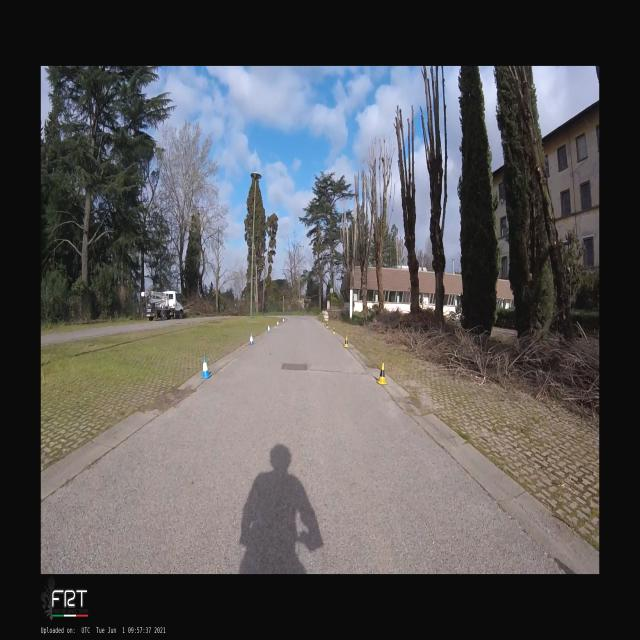blue_cone: (200, 356, 212, 378), (248, 332, 254, 344), (268, 324, 270, 332)
yellow_cone: (376, 363, 388, 385), (344, 336, 348, 348), (332, 326, 334, 334)
